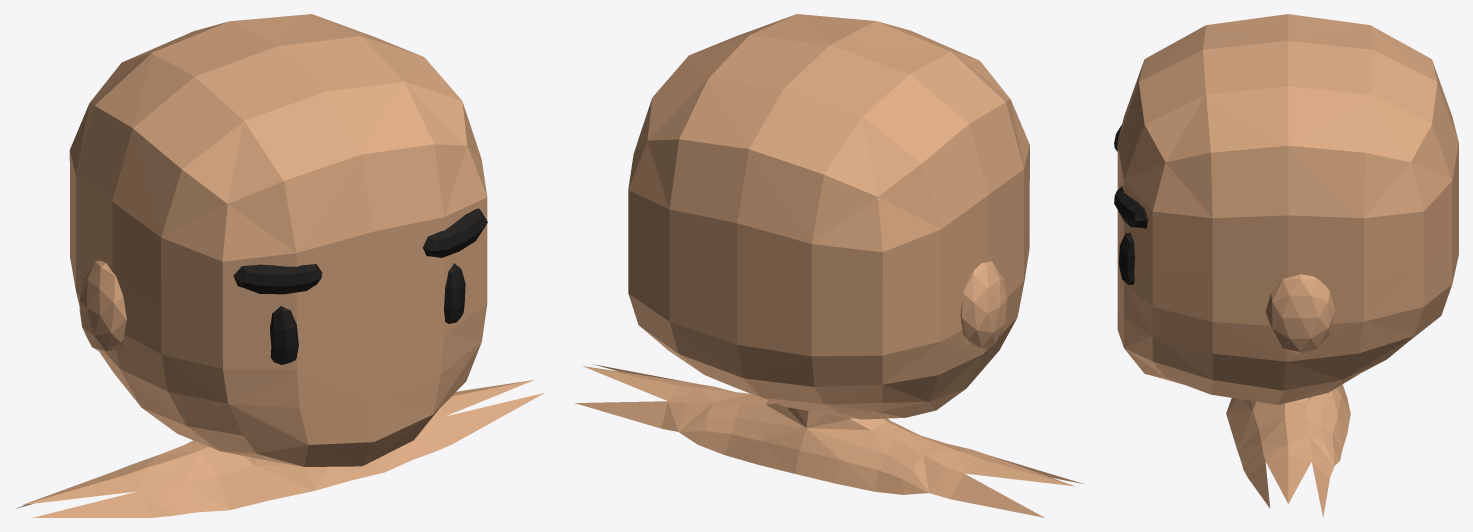
Rendered from cabeza-h.obj.
3 views of the same model, side by side, from view 1: azimuth 30°, elevation 25°; view 2: azimuth 150°, elevation 25°; view 3: azimuth 270°, elevation 25° (orthographic). The views are drawn at different scales.
Visible parts, largest first — view 1: Cabeza, Rasgos; view 2: Cabeza; view 3: Cabeza, Rasgos.
Part boxes in pixels (left/top/right/bottom): Cabeza: left=16, top=14, right=544, bottom=517; Rasgos: left=233, top=208, right=487, bottom=364; Cabeza: left=575, top=14, right=1084, bottom=517; Cabeza: left=1117, top=14, right=1458, bottom=517; Rasgos: left=1114, top=125, right=1148, bottom=284.
Bounding box in the file's own units: 1.52 × 1.2 × 0.9931.
